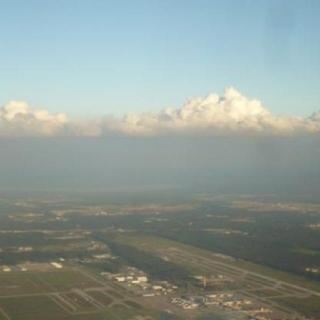Cumulus: (0, 86, 320, 164)
